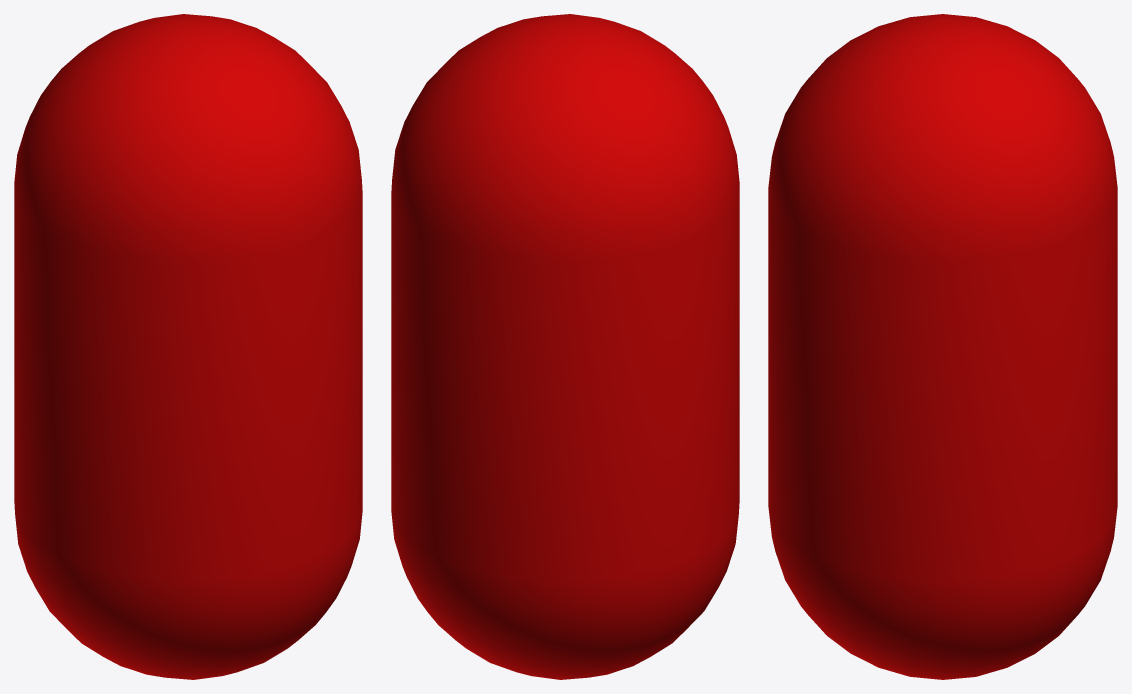
Rendered from MiddleGold.fbx.
3 renders of one model, left to right at view 1: azimuth 30°, elevation 25°; view 2: azimuth 150°, elevation 25°; view 3: azimuth 270°, elevation 25°, orthographic.
Parts seen in each view (by area): view 1: MiddleGold; view 2: MiddleGold; view 3: MiddleGold.
Part boxes in pixels (x1=…): MiddleGold: x1=14, y1=14, x2=362, y2=679; MiddleGold: x1=391, y1=14, x2=739, y2=679; MiddleGold: x1=768, y1=14, x2=1117, y2=679.
Bounding box in the file's own units: 100 × 200 × 100.
